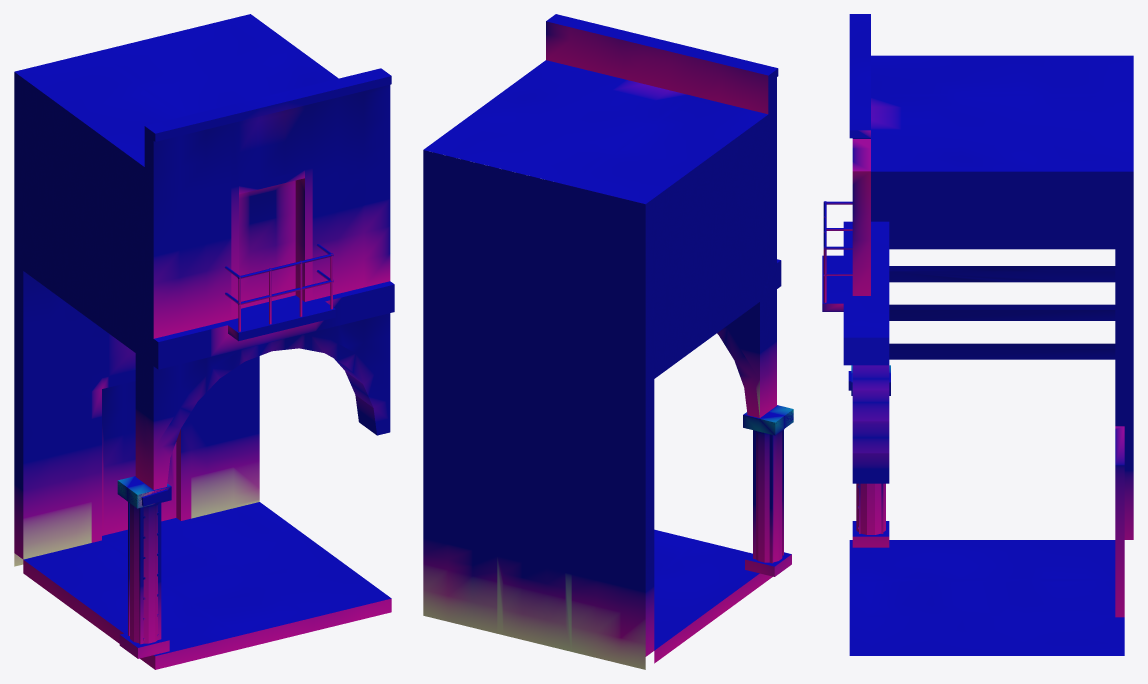
Rendered from arcade_bay.glb.
The picture shows the model from 3 angles, left to right: view 1: azimuth 30°, elevation 25°; view 2: azimuth 150°, elevation 25°; view 3: azimuth 270°, elevation 25°; orthographic projection. The views are drawn at different scales.
Visible parts, largest first — view 1: bay_upper_wall, bay_end_caps, bay_back_wall, bay_floor, bay_roof, bay_start_caps, bay_window, bay_cornice, bay_spandrels, bay_arch, bay_door, bay_parapet (+5 smaller); view 2: bay_back_exterior, bay_end_caps, bay_roof, bay_parapet, bay_start_caps, bay_floor, bay_column_stone, bay_column_steel, bay_spandrels, bay_arch; view 3: bay_floor, bay_roof, bay_end_caps, bay_beams, bay_cornice, bay_arch, bay_window, bay_parapet, bay_column_stone, bay_back_wall, bay_balcony, bay_rails (+1 smaller).
Part boxes in pixels (x1,y1,x2,y2): bay_upper_wall: (153,85,390,338); bay_end_caps: (14,72,158,669); bay_back_wall: (23,271,259,559); bay_floor: (23,502,391,656); bay_roof: (14,14,338,166); bay_start_caps: (14,74,157,666); bay_window: (231,168,312,319); bay_cornice: (154,281,394,369); bay_spandrels: (153,313,390,489); bay_arch: (154,334,389,489); bay_door: (102,381,176,535); bay_parapet: (145,68,391,141); bay_back_exterior: (423,150,645,669); bay_end_caps: (645,69,781,663); bay_roof: (423,60,767,204); bay_parapet: (546,14,777,114); bay_start_caps: (645,71,780,662); bay_floor: (654,529,759,650); bay_column_stone: (745,412,793,575); bay_column_steel: (743,405,793,576); bay_spandrels: (726,302,759,417); bay_arch: (717,327,759,417); bay_floor: (849,540,1124,655); bay_roof: (871,55,1133,171); bay_end_caps: (852,138,1133,539); bay_beams: (889,266,1115,359); bay_cornice: (843,221,889,365); bay_arch: (852,365,889,483); bay_window: (852,139,870,295); bay_parapet: (849,14,870,138); bay_column_stone: (852,386,890,547); bay_back_wall: (1115,426,1124,617); bay_balcony: (822,255,843,311); bay_rails: (823,201,852,302).
Size of the model in its own units: 4.82 by 9.75 by 5.1.
